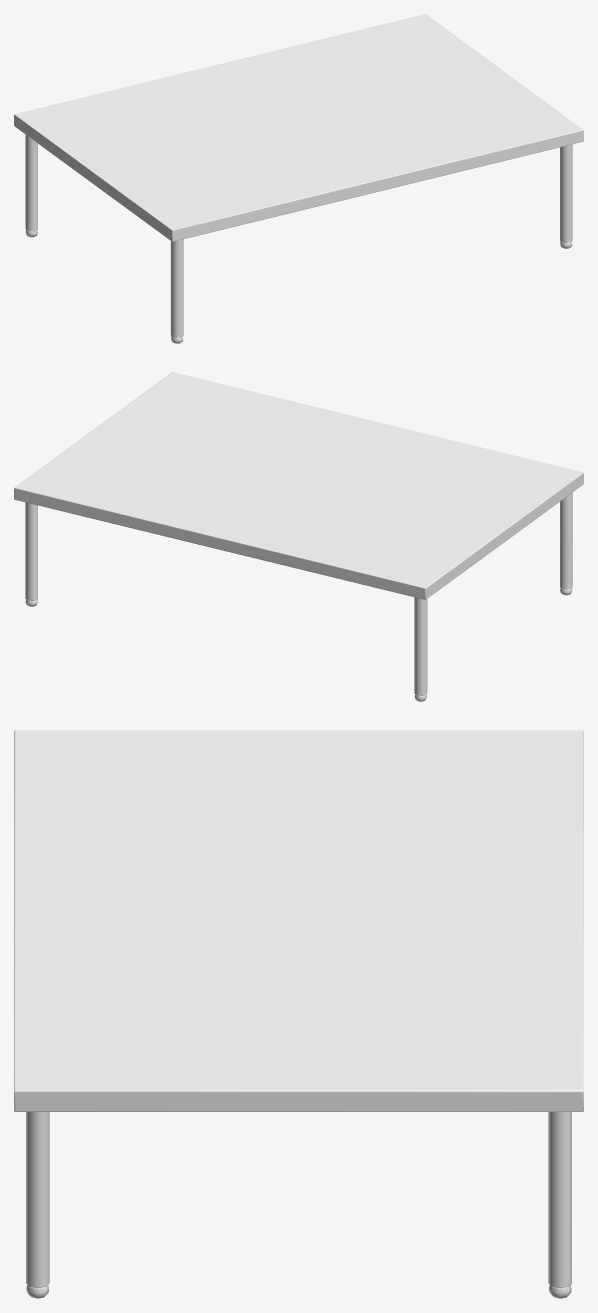
Rendered from MeetingTable.fbx.
3 renders of one model, top to bottom at view 1: azimuth 30°, elevation 25°; view 2: azimuth 150°, elevation 25°; view 3: azimuth 270°, elevation 25°, orthographic. The views are drawn at different scales.
Visible parts, largest first — view 1: MeetingTable; view 2: MeetingTable; view 3: MeetingTable.
Part boxes in pixels (box(x1,y1,x2,y2)): MeetingTable: box(14, 14, 583, 343); MeetingTable: box(14, 372, 583, 701); MeetingTable: box(14, 730, 583, 1298).
Bounding box in the file's own units: 180 × 50 × 120.
1 material, 1 textured.
